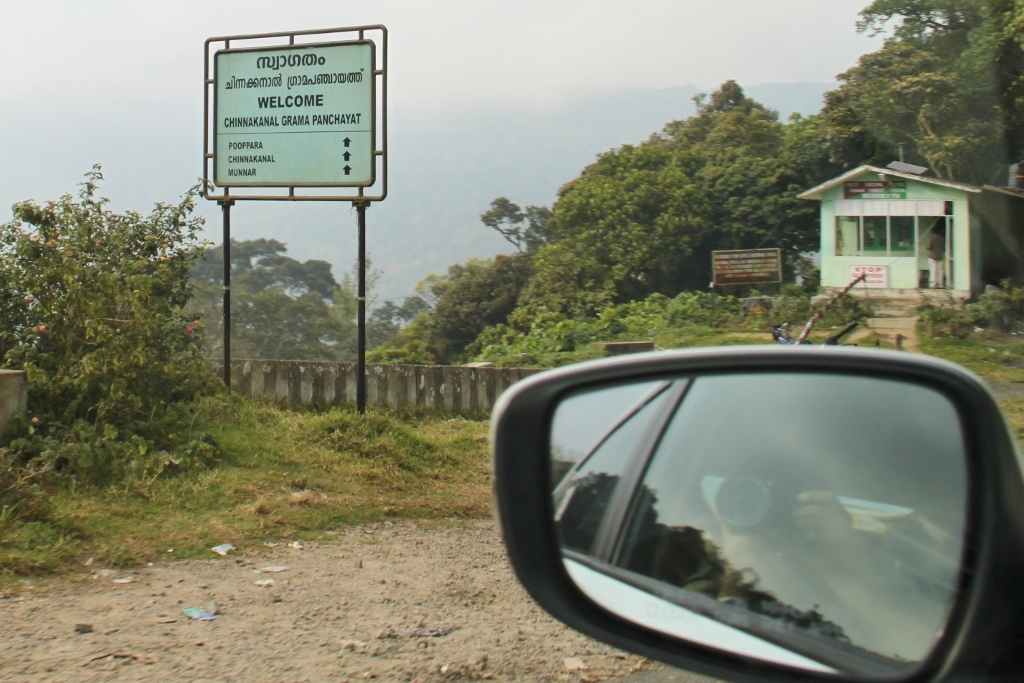Tree: (174, 0, 1024, 363)
